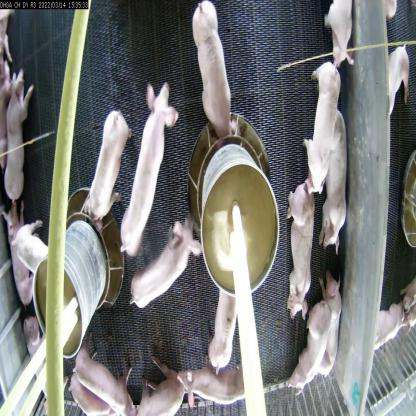Pig: (122, 73, 177, 256), (187, 2, 240, 147), (115, 226, 208, 308), (83, 96, 133, 230), (66, 338, 141, 413), (308, 39, 342, 193), (292, 290, 334, 410), (283, 164, 314, 320), (0, 198, 37, 312), (208, 274, 242, 382), (3, 67, 30, 201), (327, 100, 350, 256), (320, 263, 342, 381)
